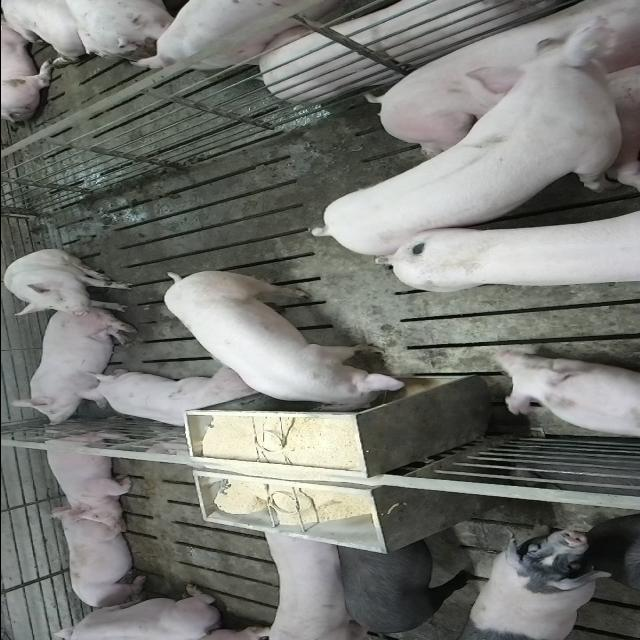Feeding: (162, 266, 408, 410)
Lateral_lying: (362, 0, 634, 155), (255, 0, 596, 104)
Sitting: (3, 249, 138, 319)
Standing: (301, 31, 637, 258), (381, 217, 640, 294), (122, 0, 364, 76), (460, 523, 608, 637), (331, 530, 474, 638), (256, 520, 371, 638)
Sternal_lying: (486, 350, 640, 444), (10, 312, 134, 427), (72, 369, 256, 430), (40, 584, 224, 638), (52, 510, 150, 611), (38, 425, 138, 523)
